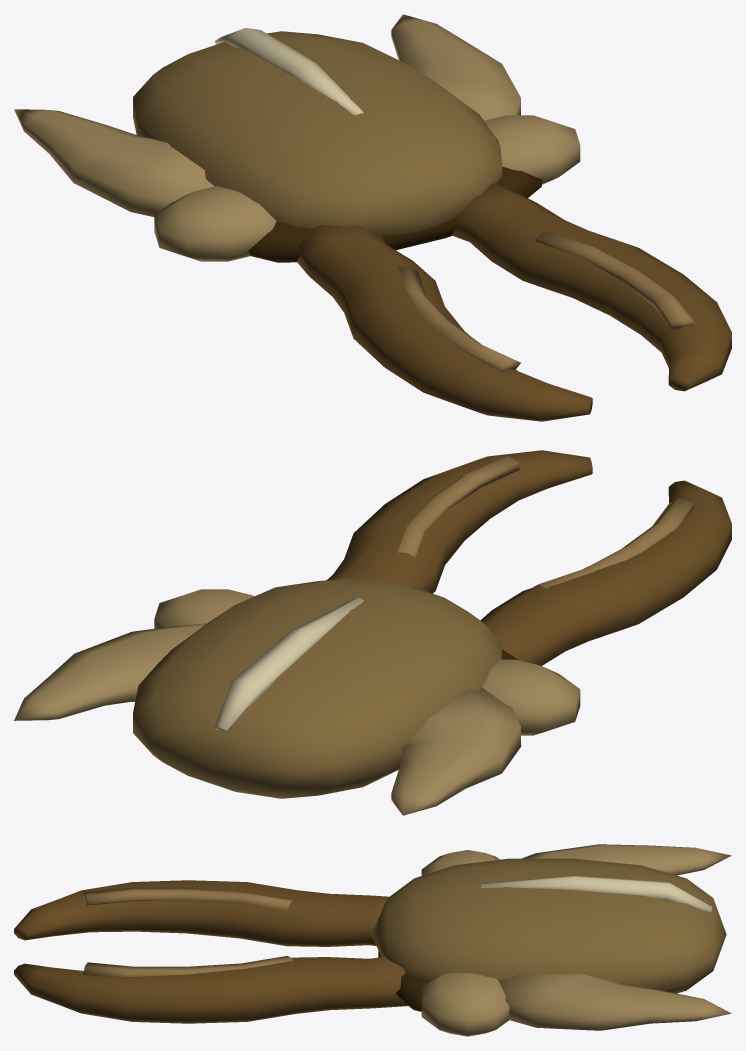
File: newshg-49-f3.glb
3 renders of one model, top to bottom at view 1: azimuth 30°, elevation 25°; view 2: azimuth 150°, elevation 25°; view 3: azimuth 270°, elevation 25°, orthographic. The views are drawn at different scales.
Visible parts, largest first — view 1: newshg-49-f3; view 2: newshg-49-f3; view 3: newshg-49-f3.
Part boxes in pixels (bbox=[...]): newshg-49-f3: bbox=[14, 14, 731, 421]; newshg-49-f3: bbox=[14, 450, 731, 815]; newshg-49-f3: bbox=[14, 844, 731, 1036].
Size of the model in its own units: 1.28 by 0.3733 by 2.24.
